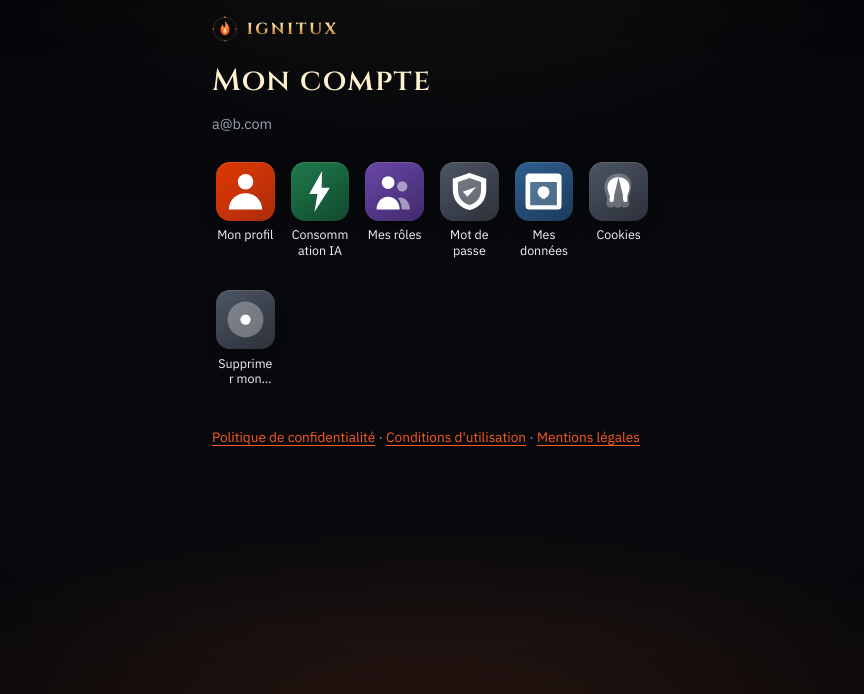
Test: AccountPage › mes données › avertit que le fichier contiendra des coordonnées de tiers
Click the button "Mes données" at [544, 210], box [515,158,573,262]
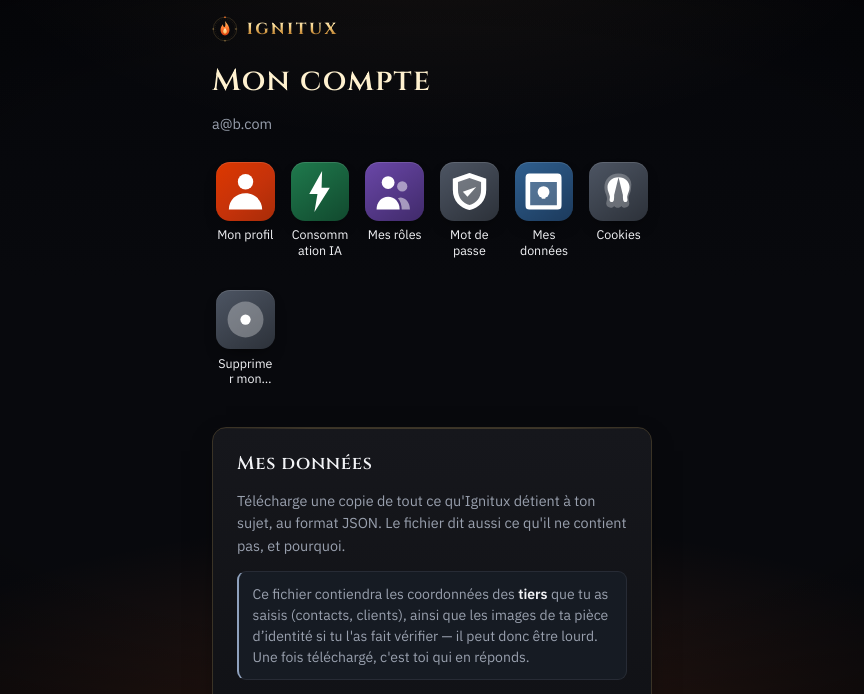
Check: the text "coordonnées des" is shown, box [253,585,518,603]
Check: the text "tiers" is shown, box [518,585,548,603]
